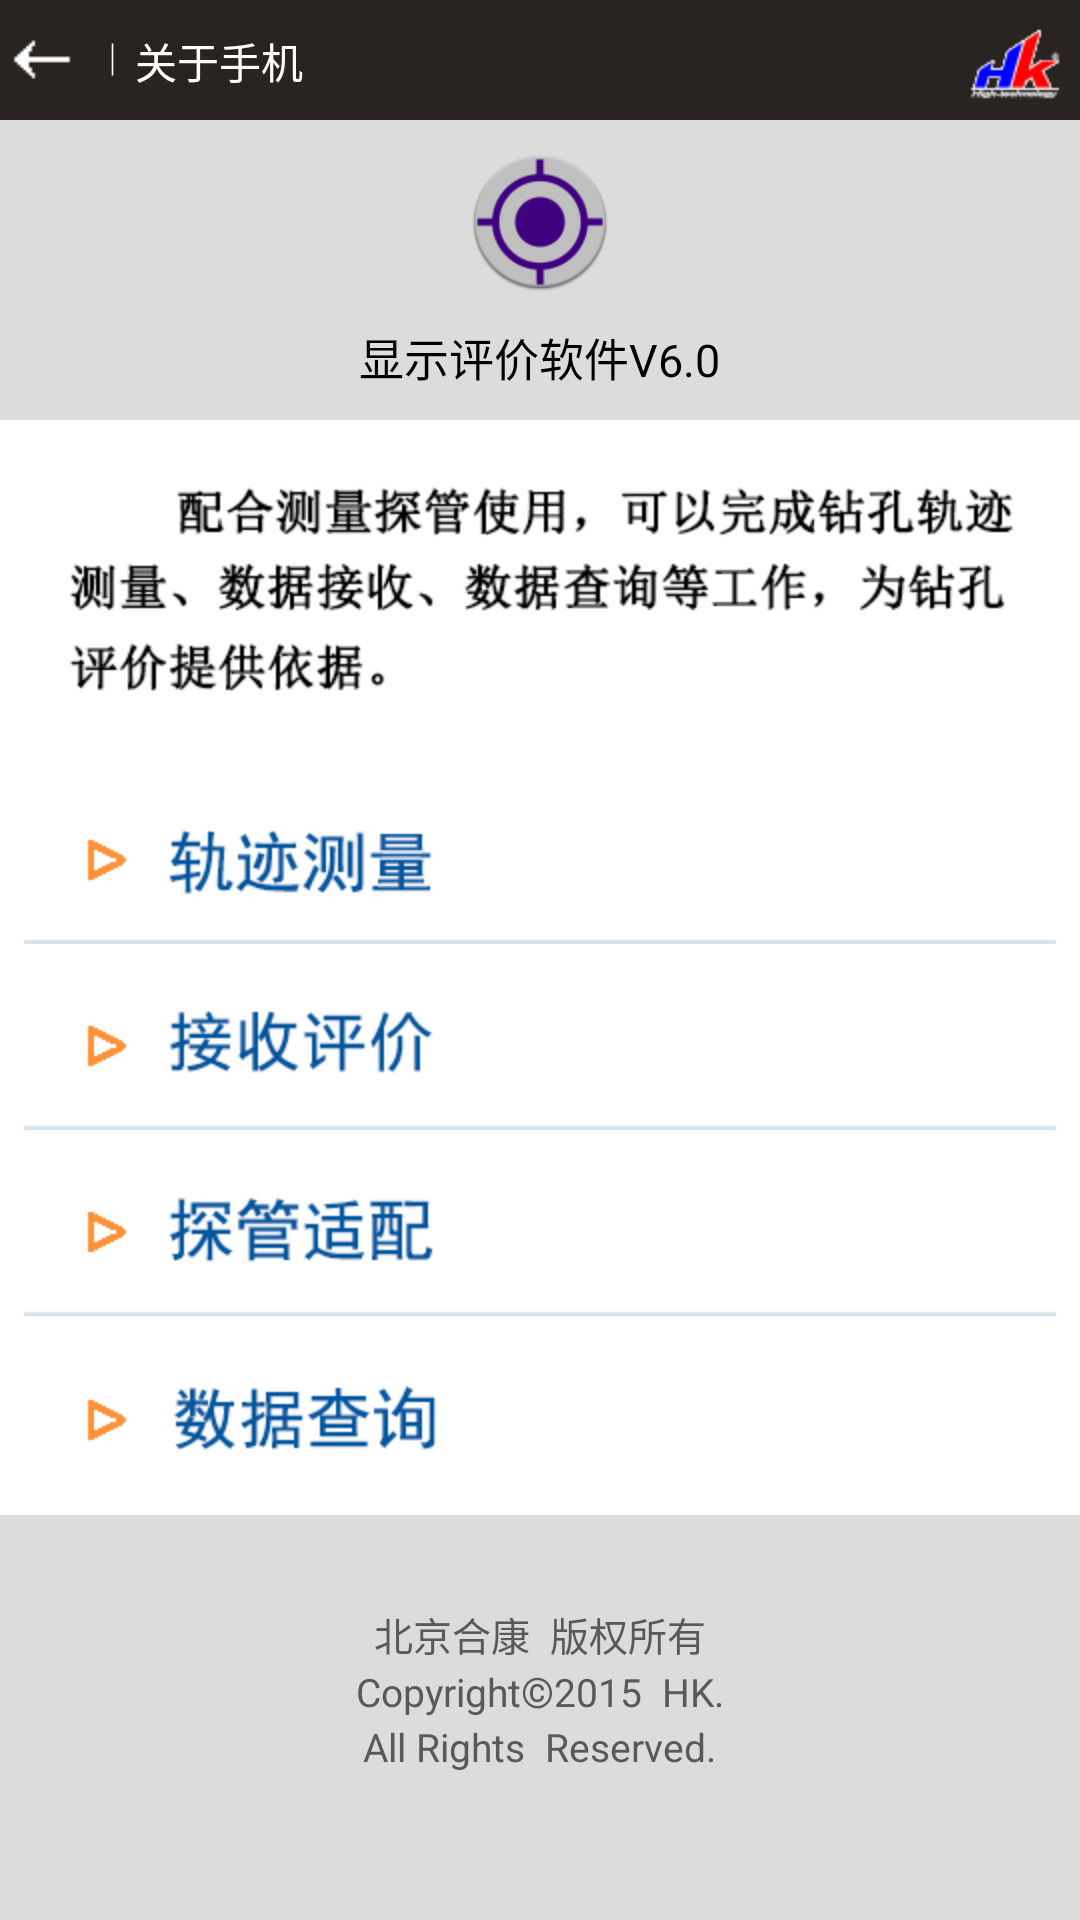

Screen size 1080x1920. Icon name, then its center in pixels as (x=x, y=y):
houtui: (x=42, y=59)
